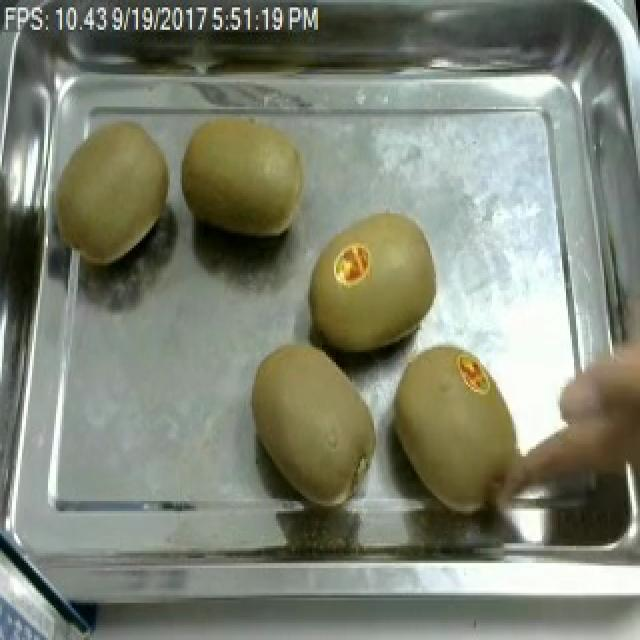Fruit: (382, 335, 530, 526), (244, 332, 384, 516), (304, 201, 446, 362), (46, 109, 182, 275), (172, 112, 320, 246)
